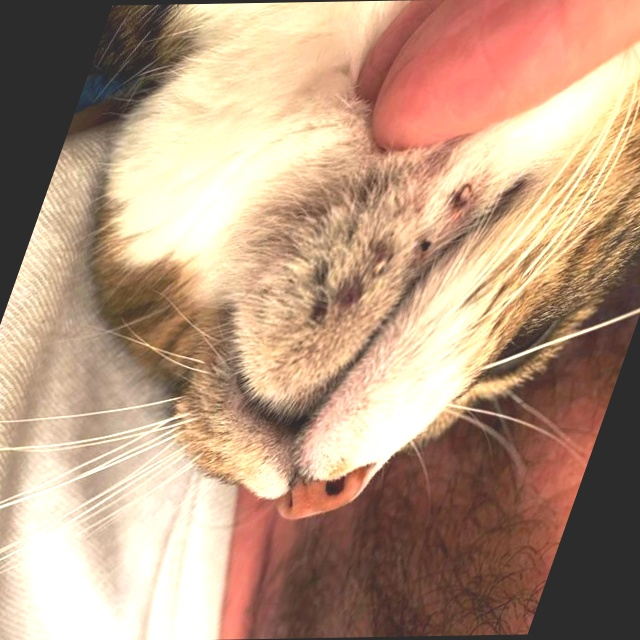acne: (268, 159, 490, 354)
